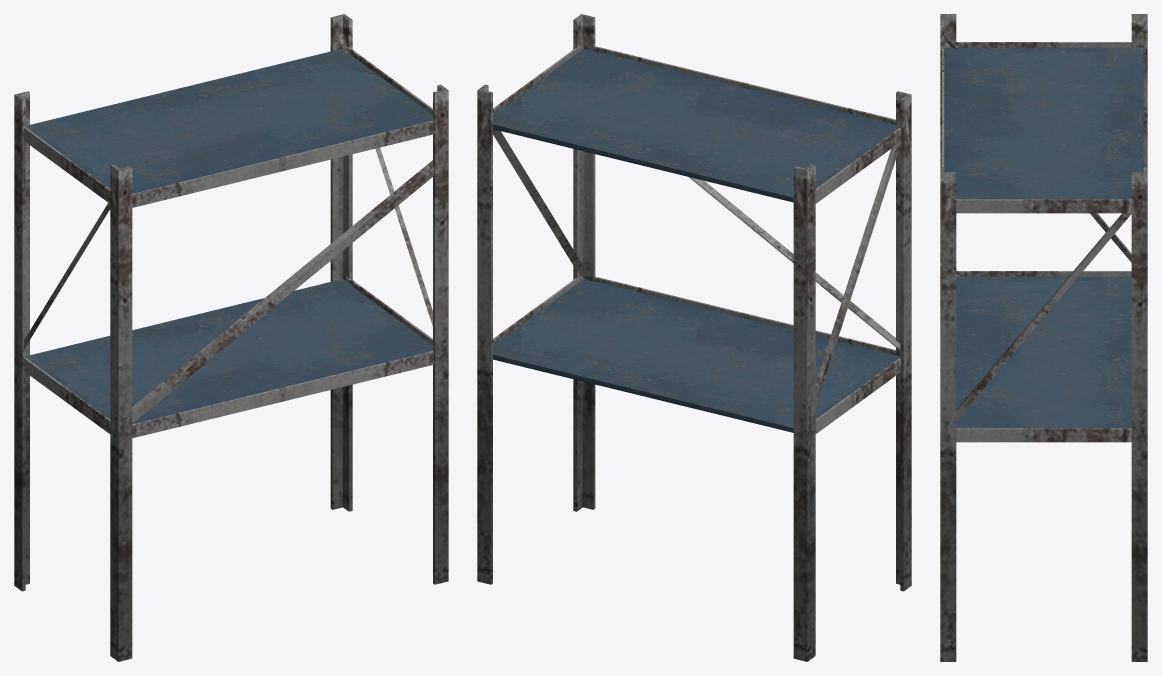
Rendered from Prop_Jiazi.glb.
The picture shows the model from 3 angles, left to right: view 1: azimuth 30°, elevation 25°; view 2: azimuth 150°, elevation 25°; view 3: azimuth 270°, elevation 25°; orthographic projection.
Visible parts, largest first — view 1: xiutz_jiazi; view 2: xiutz_jiazi; view 3: xiutz_jiazi.
Part boxes in pixels (x1=…): xiutz_jiazi: x1=14, y1=14, x2=448, y2=661; xiutz_jiazi: x1=477, y1=14, x2=911, y2=661; xiutz_jiazi: x1=940, y1=14, x2=1147, y2=661.
Bounding box in the file's own units: 2.97 × 4.22 × 1.62.
Materials: 1 (1 with a texture image).
